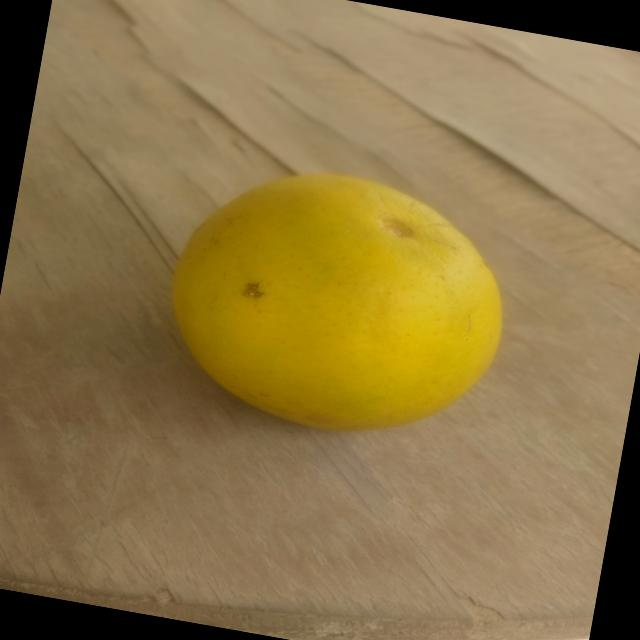agrume: (139, 146, 527, 467)
